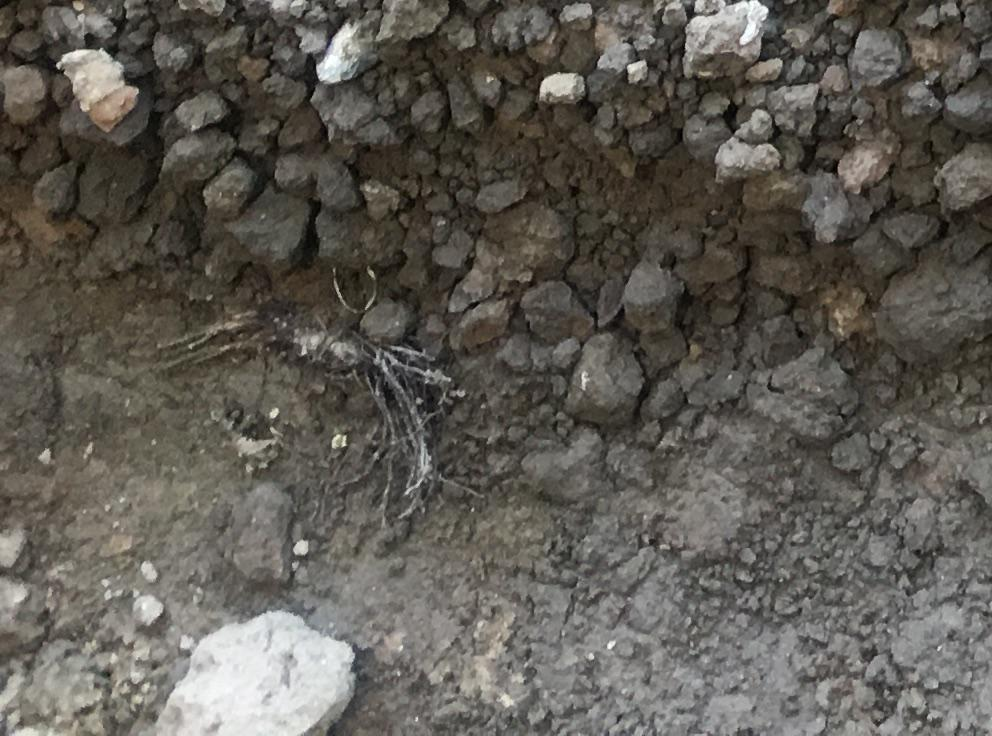block: (151, 615, 356, 736)
